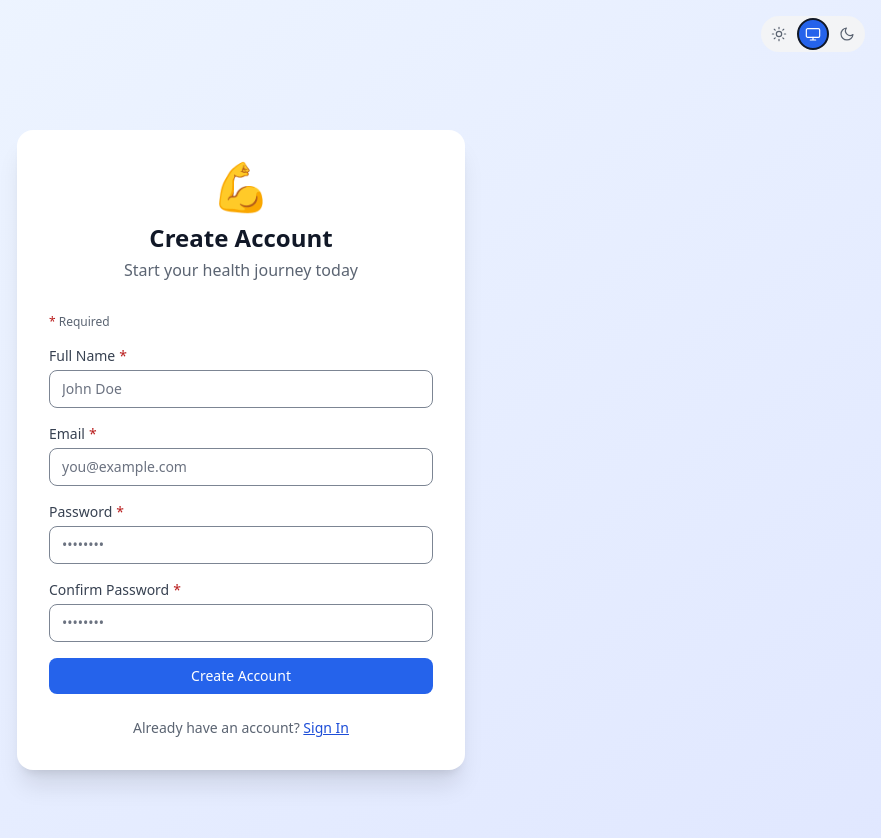
Test: RegisterPage › GivenAnEmailAlreadyRegistered_WhenTheFormIsSubmitted_ThenTheApisOwnRefusalIsShownAndNothingNavigates
This screenshot has width=881, height=838.
Type "Dana Walker" into the field labelled "Full Name" at (241, 389), box [49, 370, 433, 408]
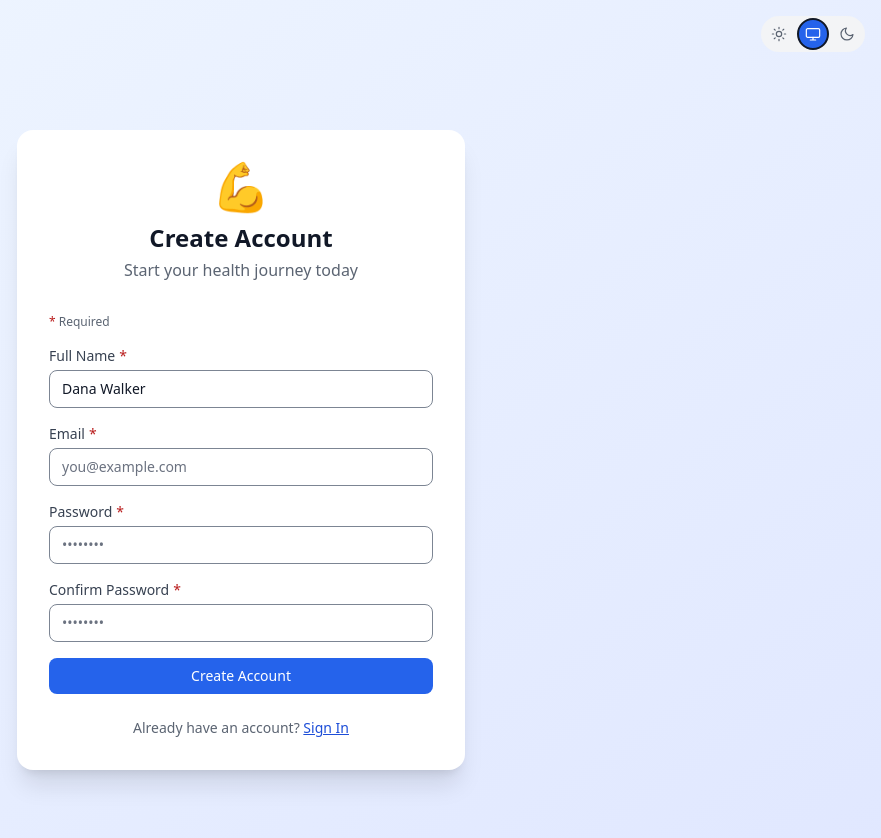
Type "dana@example.com" into the field labelled "Email" at (241, 467), box [49, 448, 433, 486]
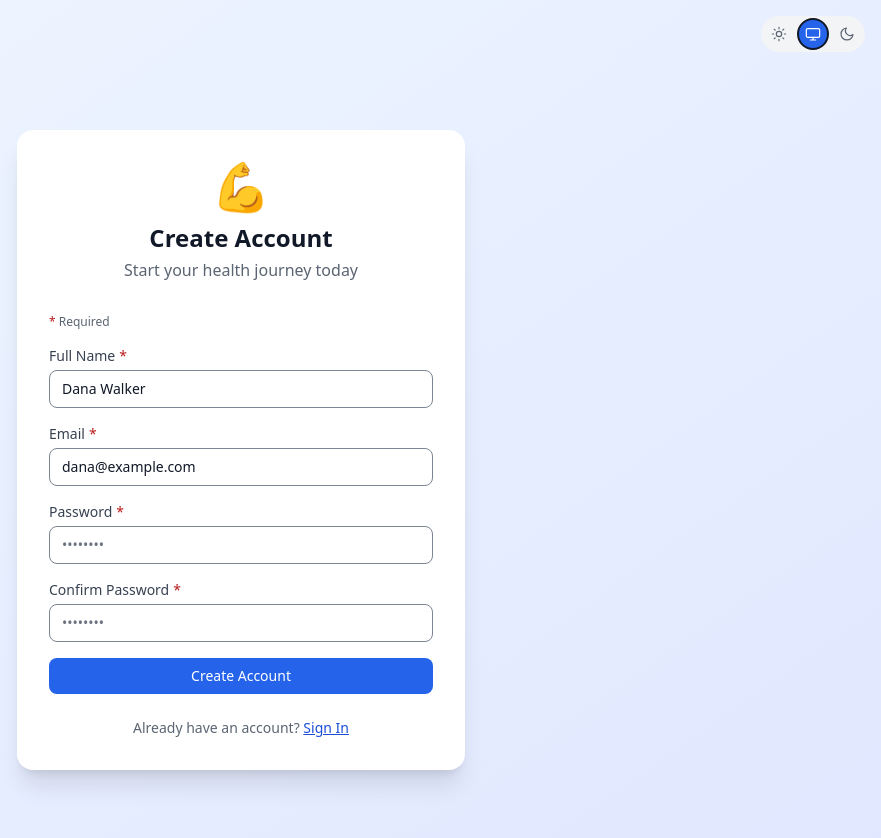
Type "eight-ch" into the password field labelled "Password" at (241, 545), box [49, 526, 433, 564]
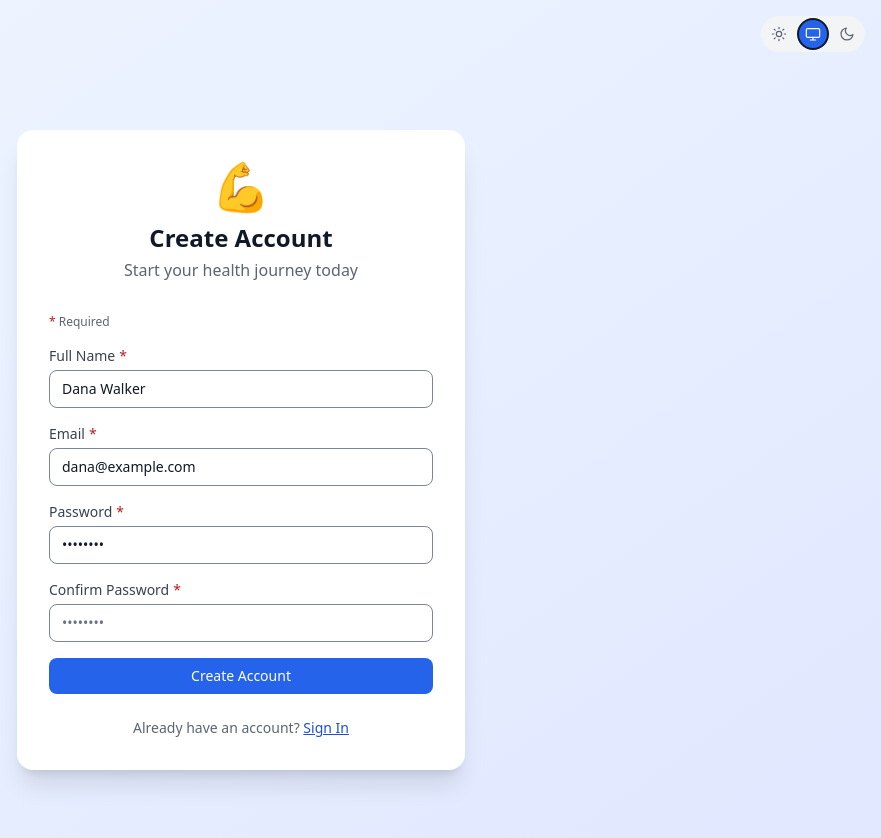
Type "eight-ch" into the password field labelled "Confirm Password" at (241, 623), box [49, 604, 433, 642]
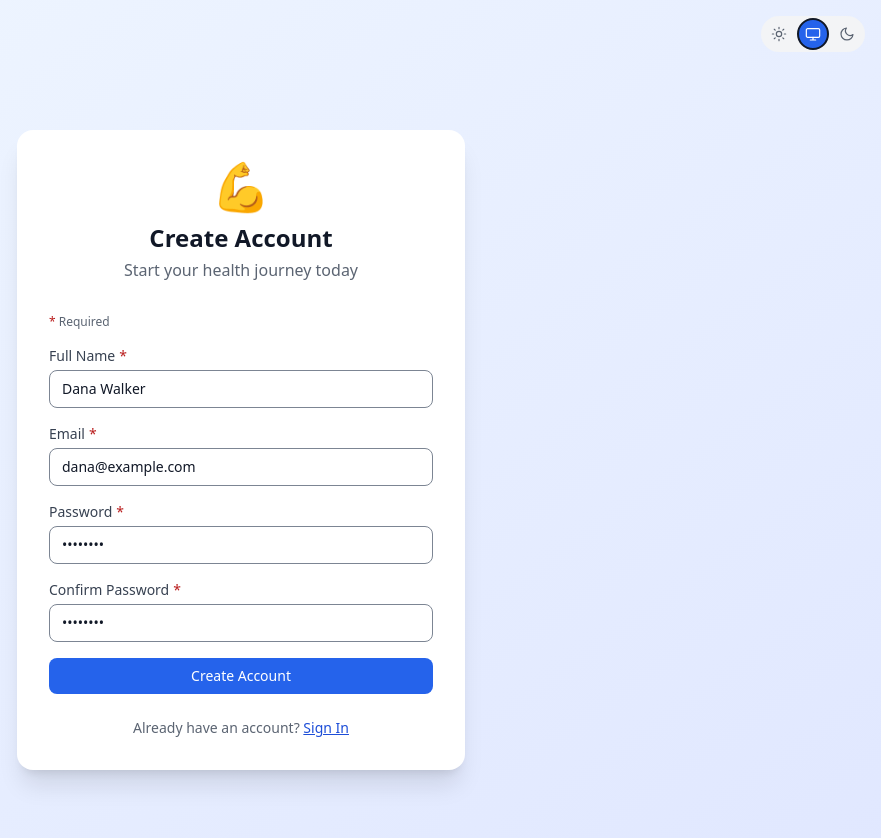
Submit the form from the button "Create Account", box [49, 658, 433, 694]
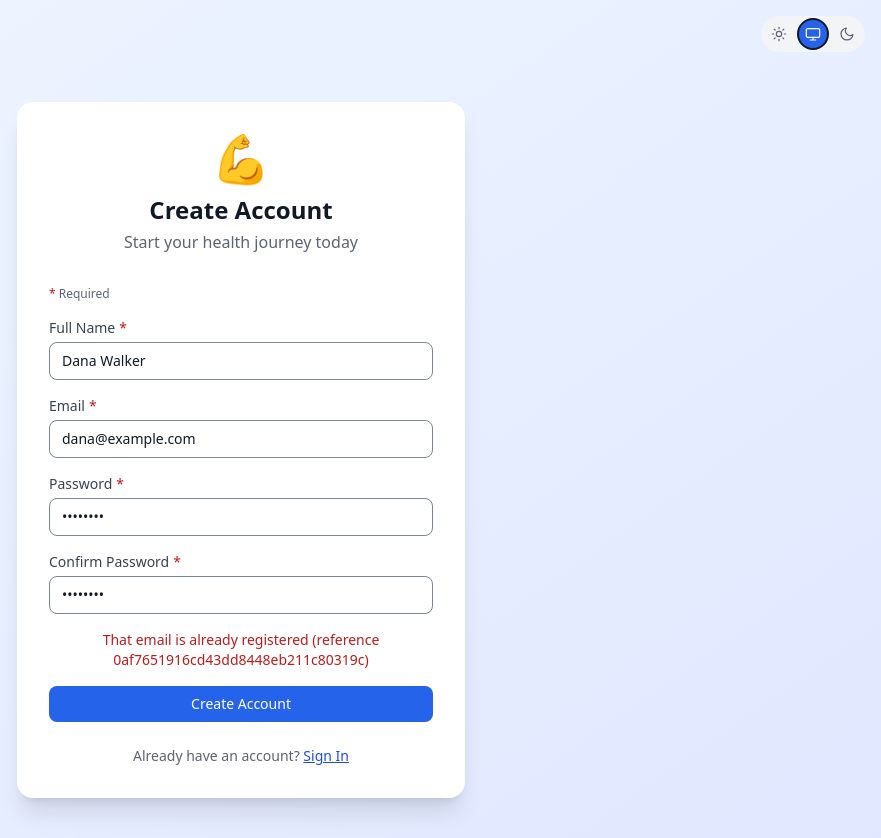
Result: the text "That email is already registered (reference 0af7651916cd43dd8448eb211c80319c)" is shown at [103, 630, 379, 669]
